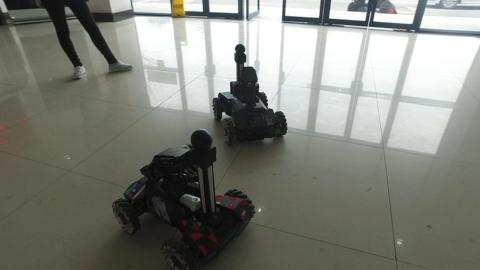chariot: (107, 128, 257, 270), (209, 42, 296, 146)
